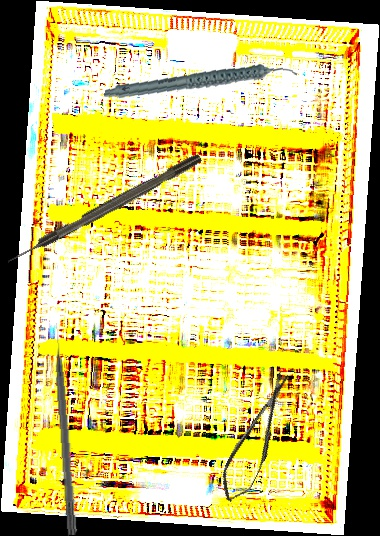Handpiece: (103, 48, 299, 119)
Hook Surgical: (4, 152, 204, 267)
Micro Scissor: (212, 367, 303, 508)
Pusher: (52, 322, 79, 536)
